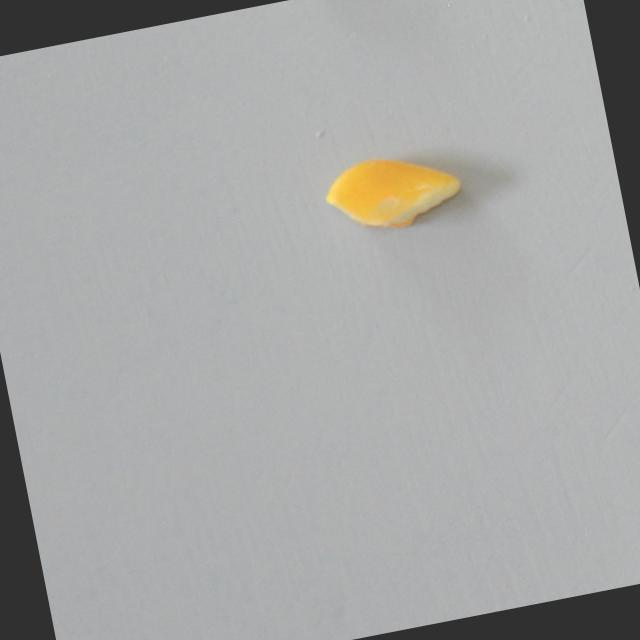estandar: (321, 137, 471, 240)
